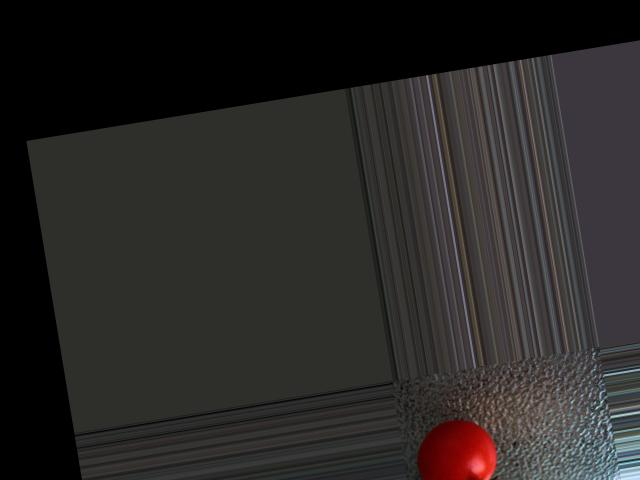tomato: (412, 413, 503, 480)
